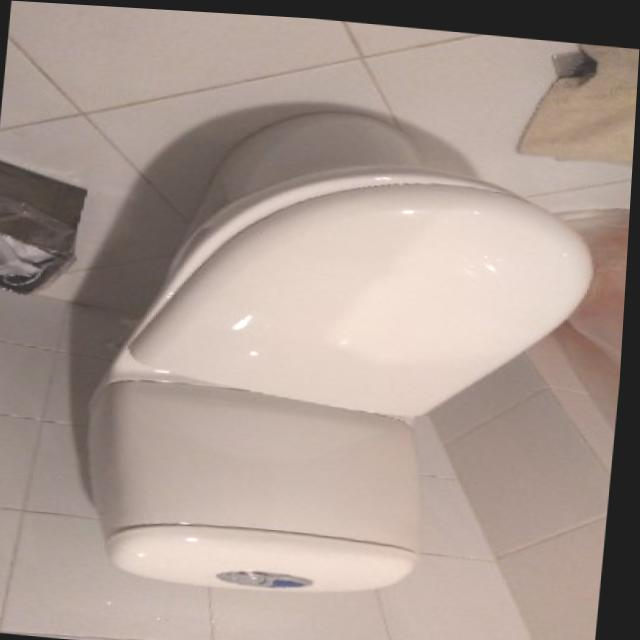toilet: (75, 89, 608, 614)
